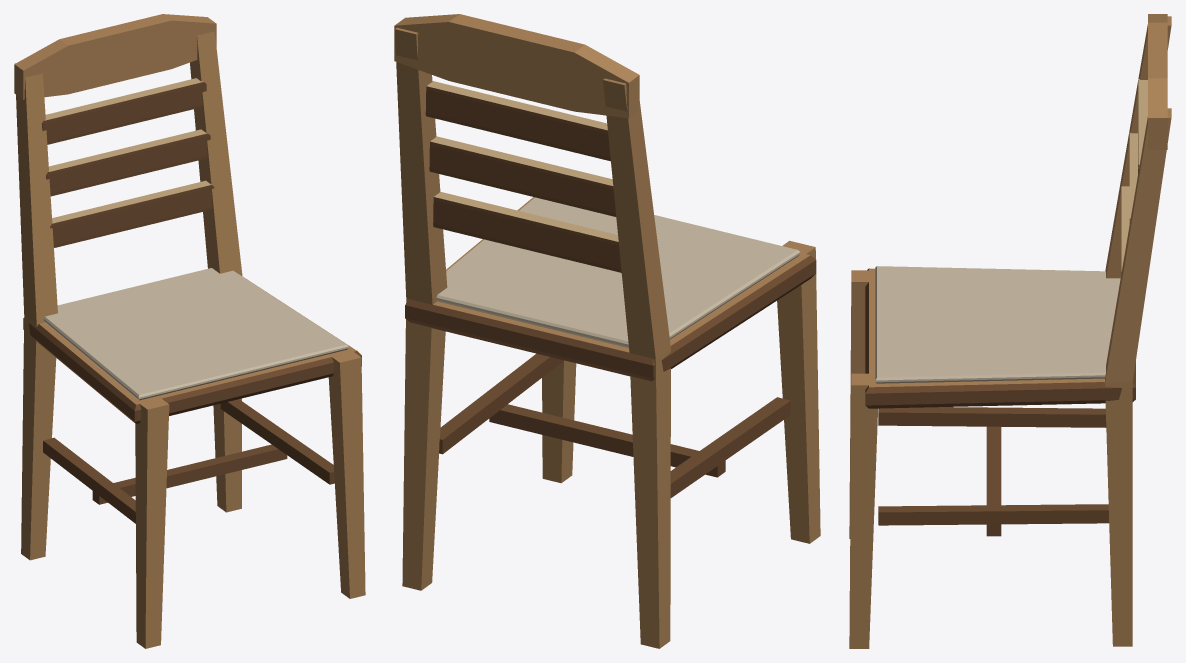
File: FN_Chair_Dining.obj
3 renders of one model, left to right at view 1: azimuth 30°, elevation 25°; view 2: azimuth 150°, elevation 25°; view 3: azimuth 270°, elevation 25°, orthographic. The views are drawn at different scales.
Visible parts, largest first — view 1: FN_Chair_Dining; view 2: FN_Chair_Dining; view 3: FN_Chair_Dining.
Part boxes in pixels (left/top/right/bottom): FN_Chair_Dining: left=14, top=14, right=365, bottom=648; FN_Chair_Dining: left=394, top=14, right=820, bottom=648; FN_Chair_Dining: left=849, top=14, right=1171, bottom=648.
Bounding box in the file's own units: 0.44 × 0.906 × 0.4902.
Materials: 1 (1 with a texture image).
